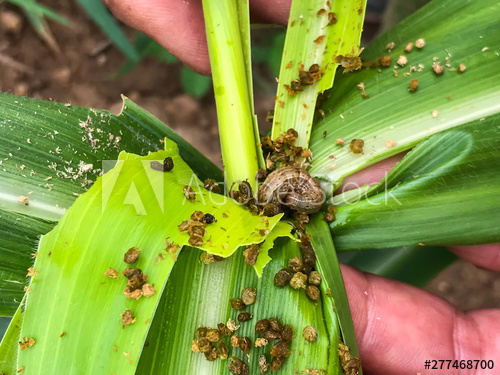Armyworm: (255, 165, 333, 221)
